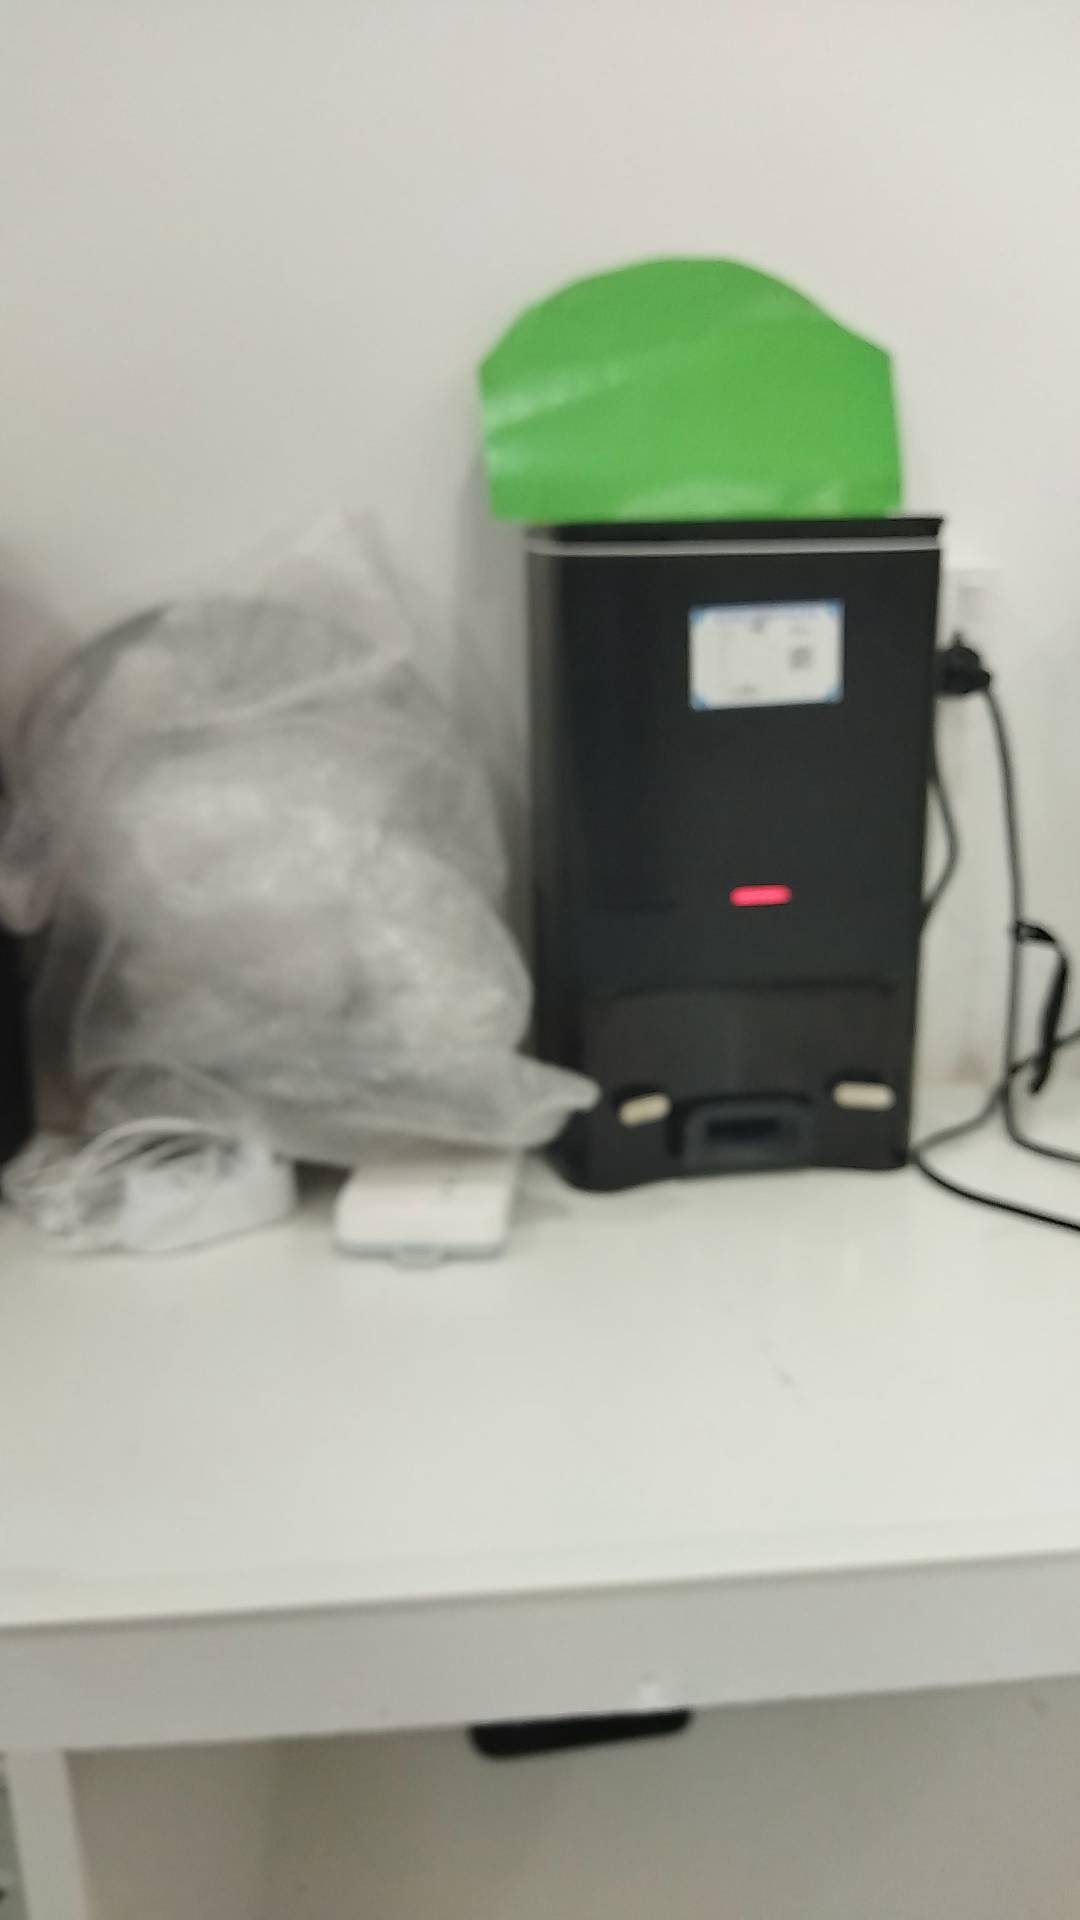dust collecting barrel: (520, 517, 942, 1193)
